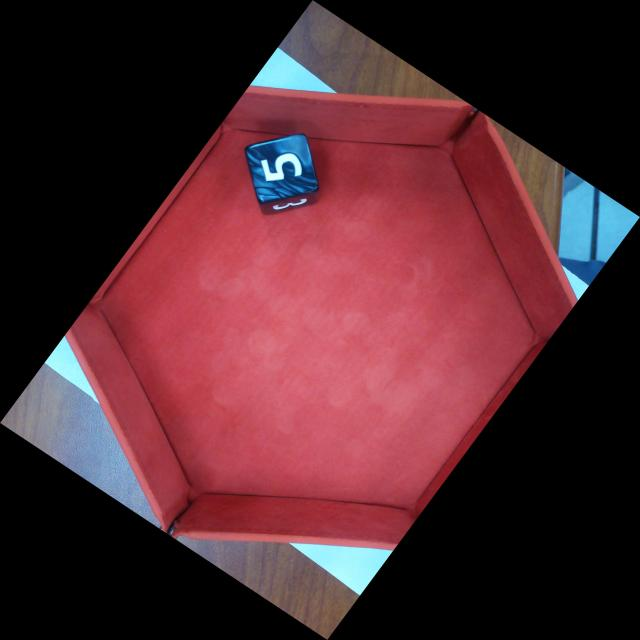dice: (243, 132, 323, 206)
